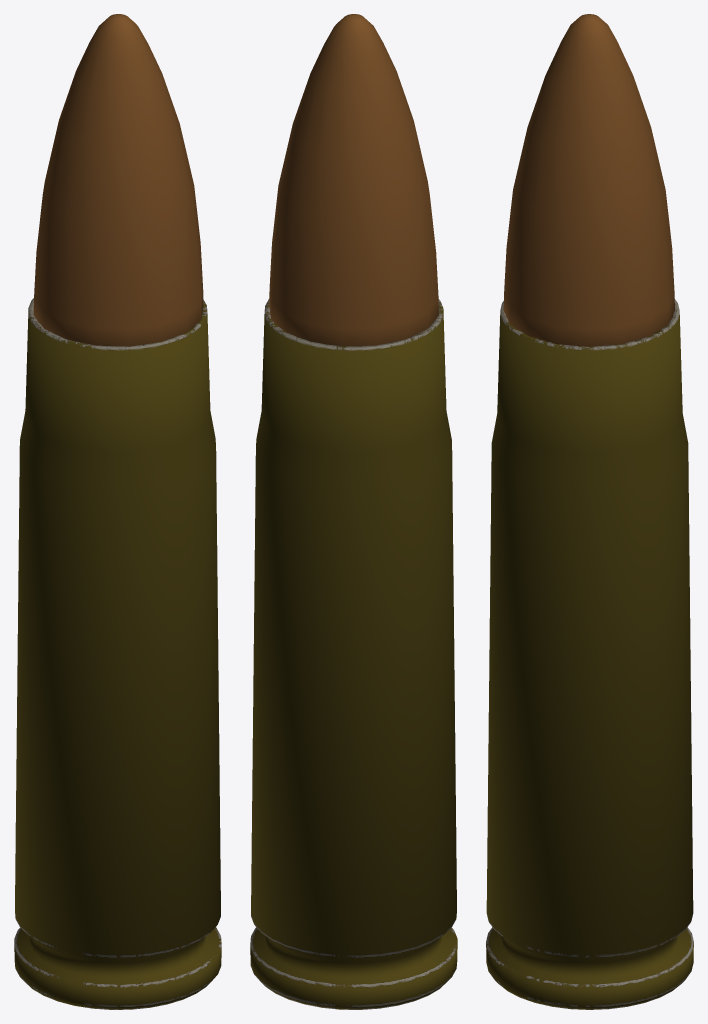
Rendered from bullet_model.fbx.
3 renders of one model, left to right at view 1: azimuth 30°, elevation 25°; view 2: azimuth 150°, elevation 25°; view 3: azimuth 270°, elevation 25°, orthographic.
Parts seen in each view (by area): view 1: gilza_low; view 2: gilza_low; view 3: gilza_low.
Part boxes in pixels (box(x1,y1,x2,y2)): gilza_low: box(14, 14, 221, 1009); gilza_low: box(250, 14, 457, 1009); gilza_low: box(486, 14, 693, 1009).
Size of the model in its own units: 207 by 1047 by 207.
